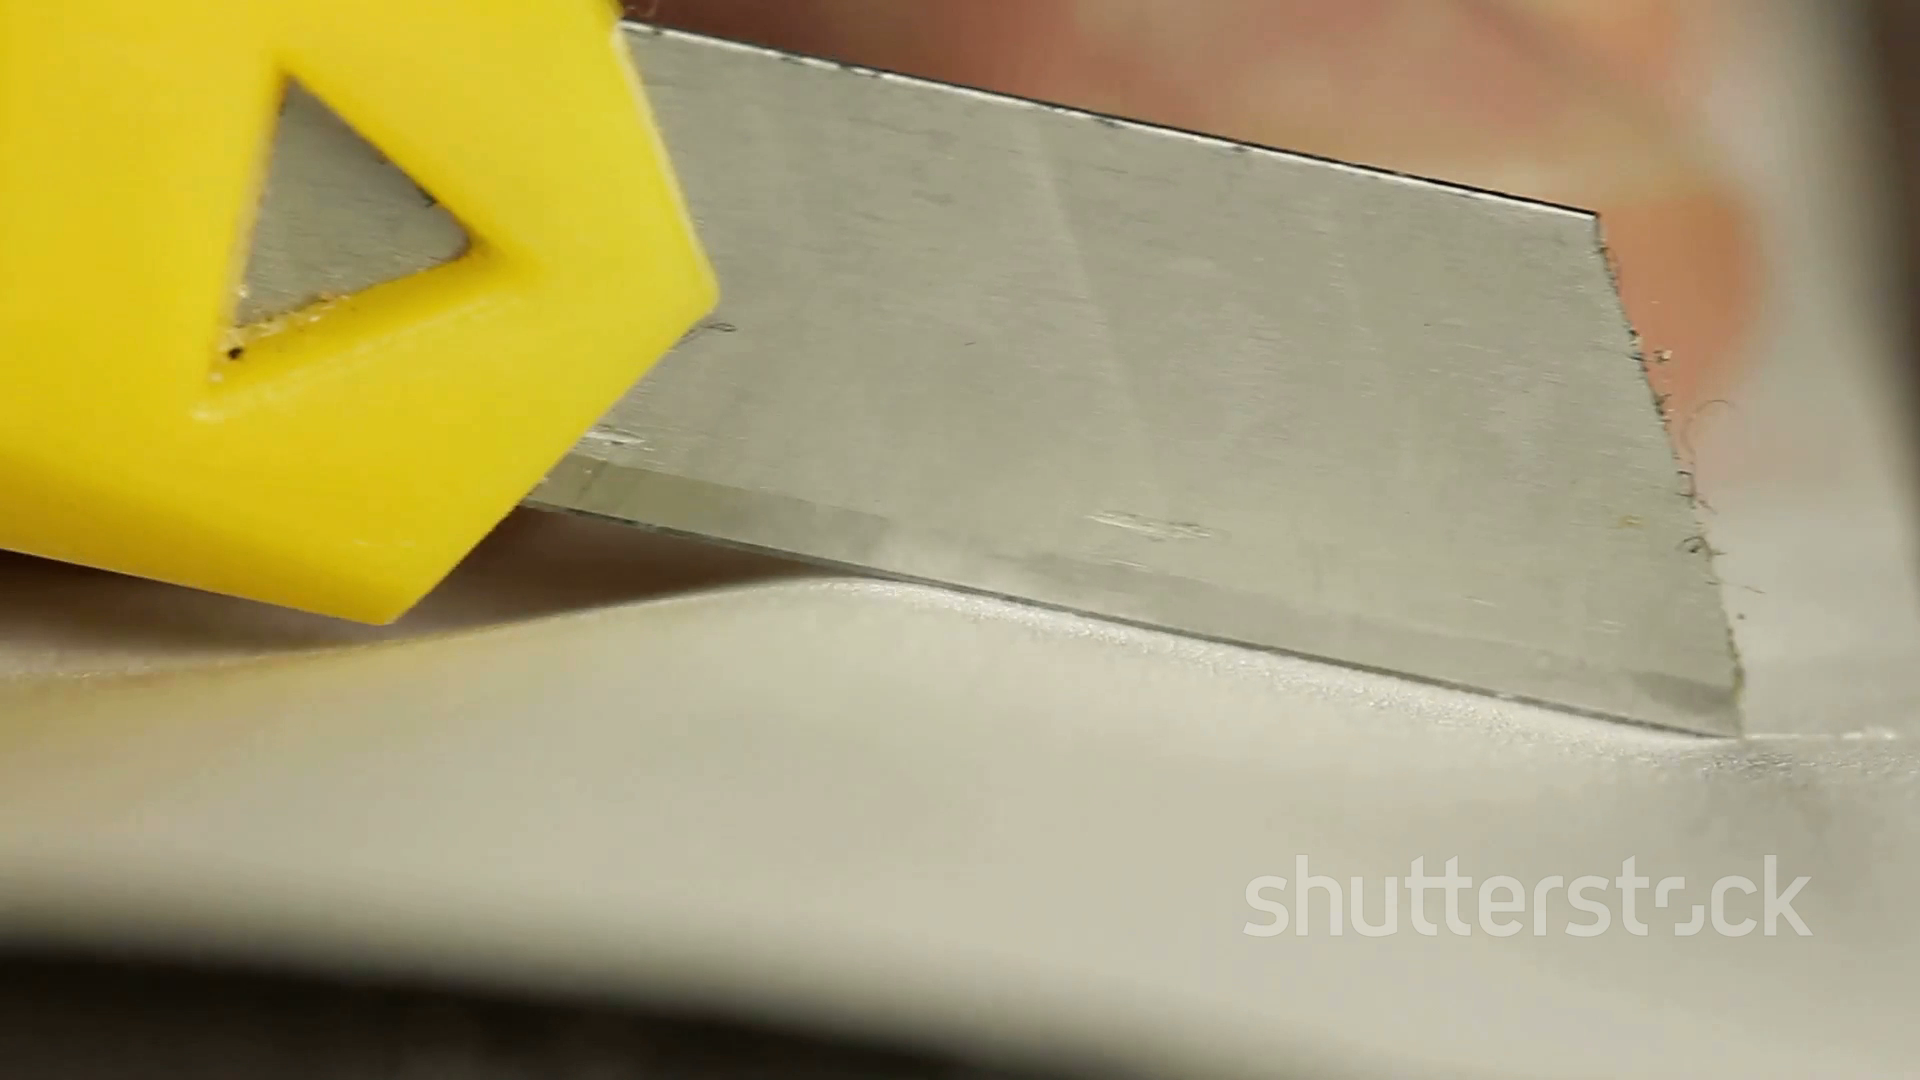cortante: (516, 24, 1742, 738)
